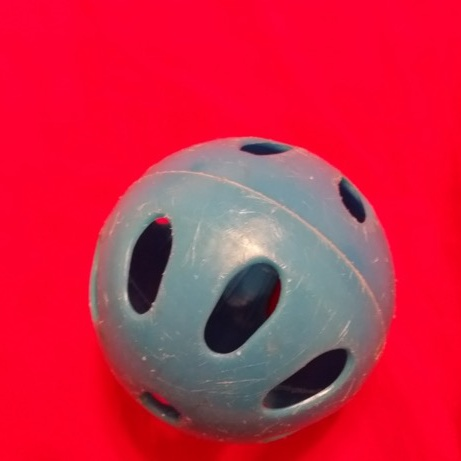blueball: (84, 131, 403, 448)
